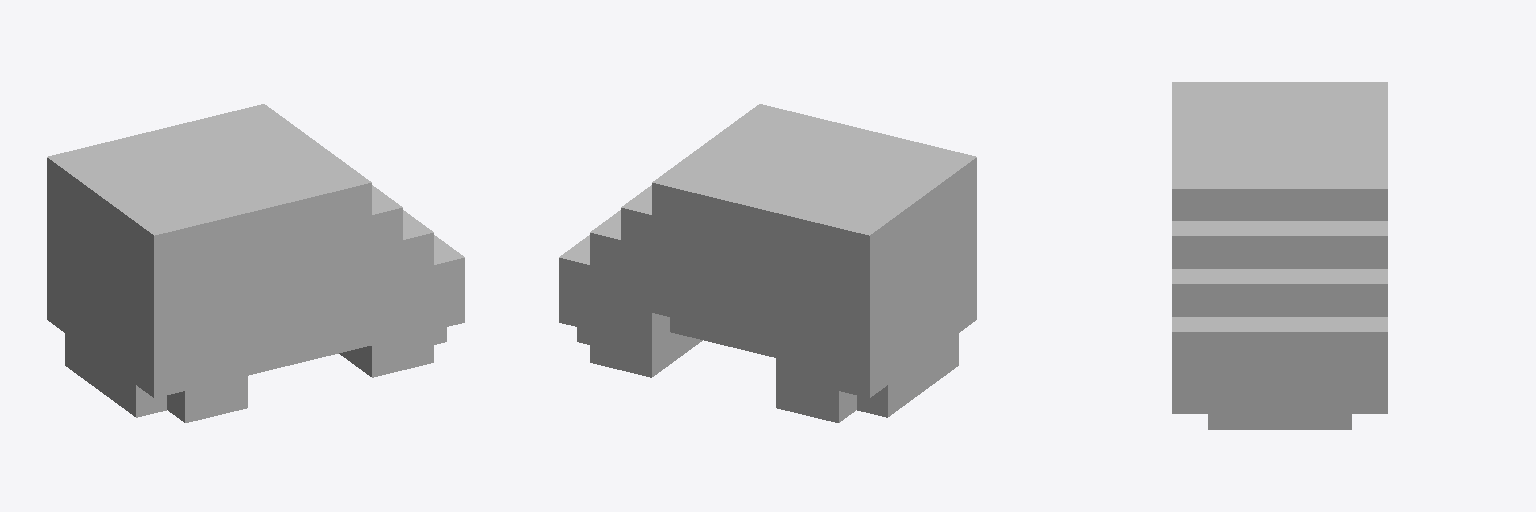
Rendered from OneEnemy.obj.
The picture shows the model from 3 angles: view 1: azimuth 30°, elevation 25°; view 2: azimuth 150°, elevation 25°; view 3: azimuth 270°, elevation 25°; orthographic projection.
Parts seen in each view (by area): view 1: object 1; view 2: object 1; view 3: object 1.
Boxes of the visible parts, <box> form: object 1: <box>47,104,464,422</box>; object 1: <box>559,104,976,422</box>; object 1: <box>1172,82,1387,429</box>.
Bounding box in the file's own units: 1 × 0.6 × 0.6.